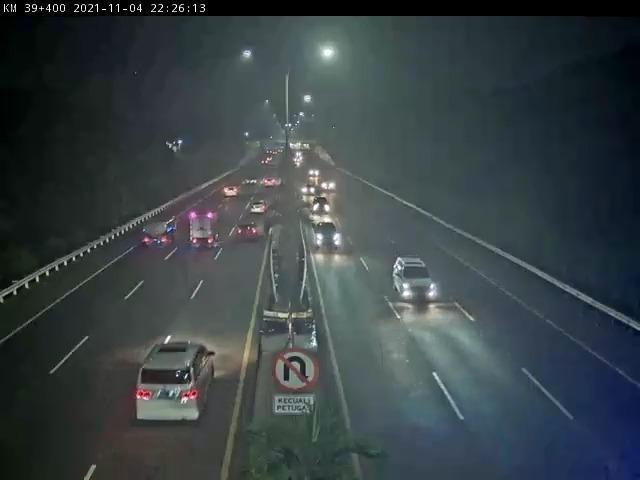car: (139, 337, 212, 429), (378, 256, 457, 315), (314, 226, 356, 257), (240, 210, 271, 245), (311, 196, 337, 218), (226, 181, 238, 203)
truck: (181, 206, 218, 258), (148, 208, 183, 258)
